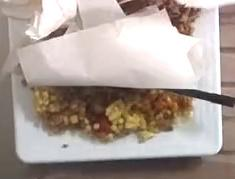taco_mix: (34, 86, 190, 141)
